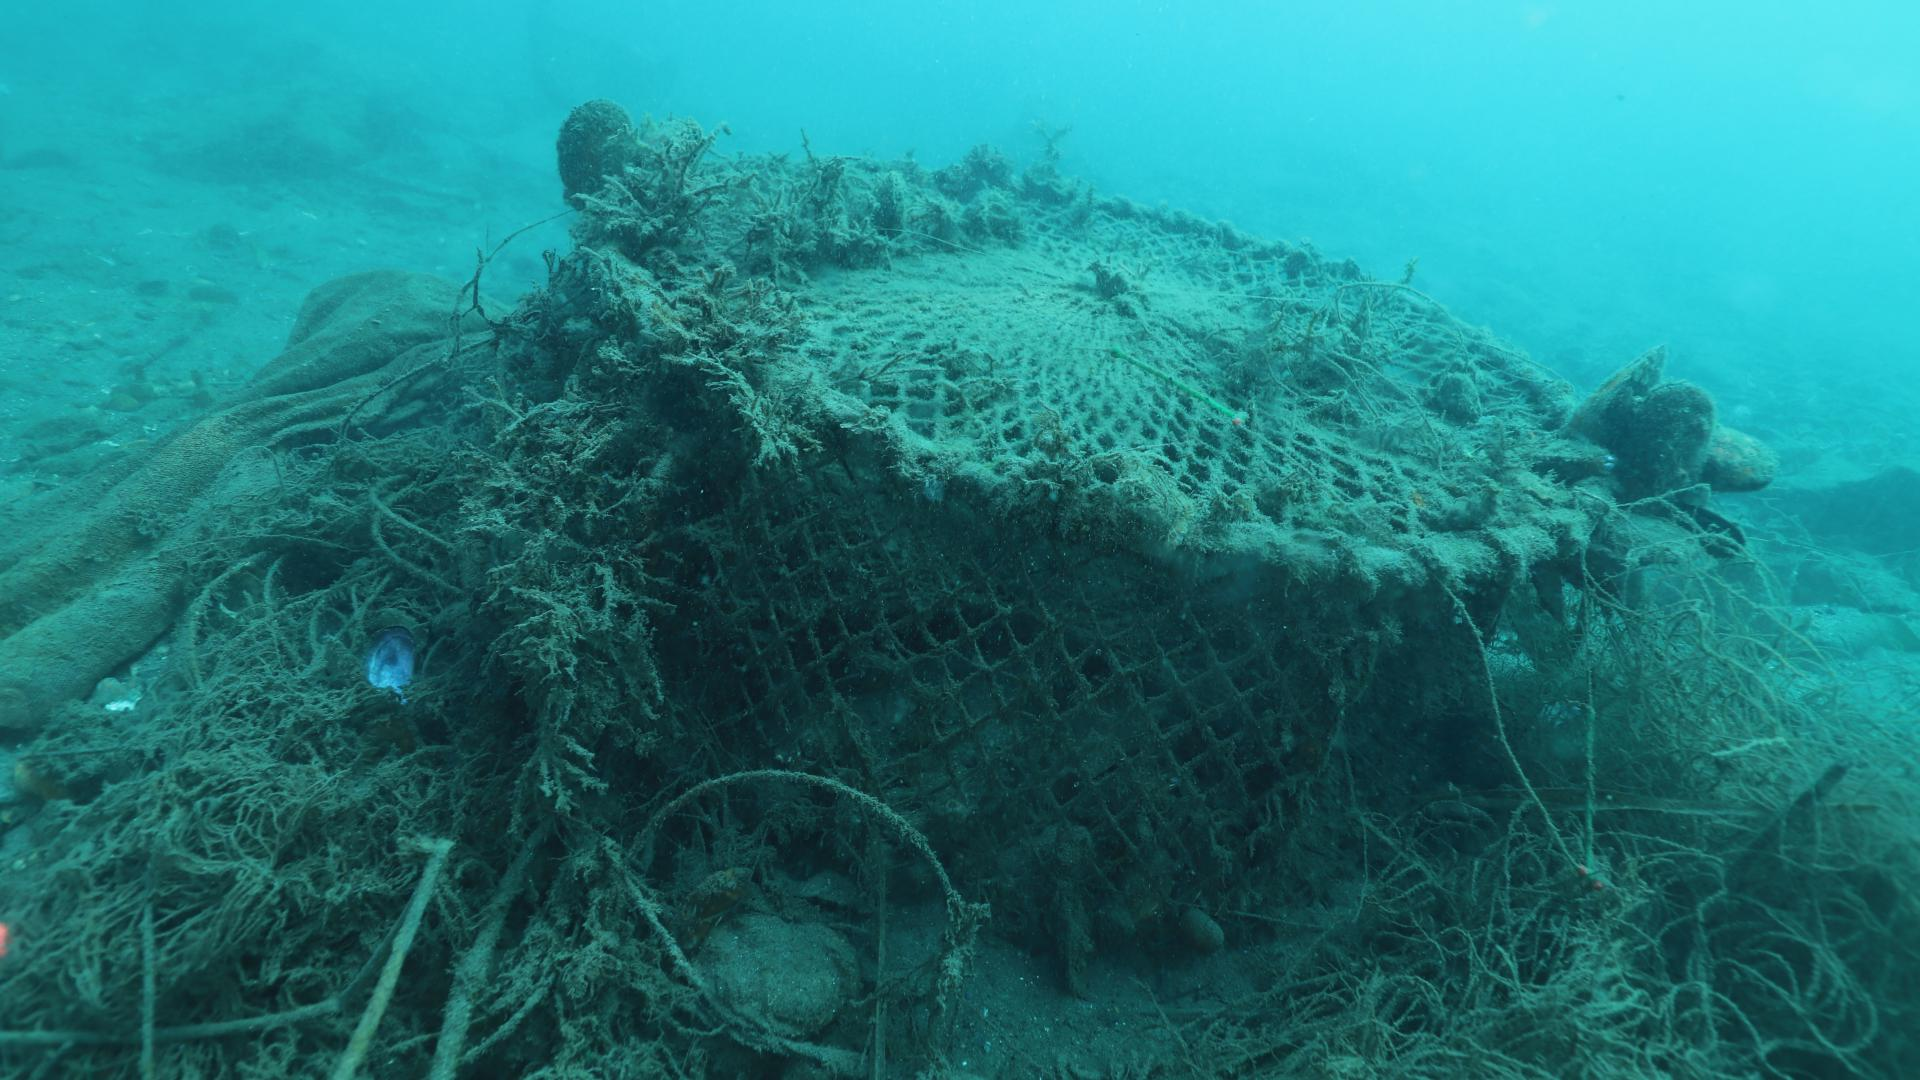circular fish trap: (630, 160, 1622, 968)
